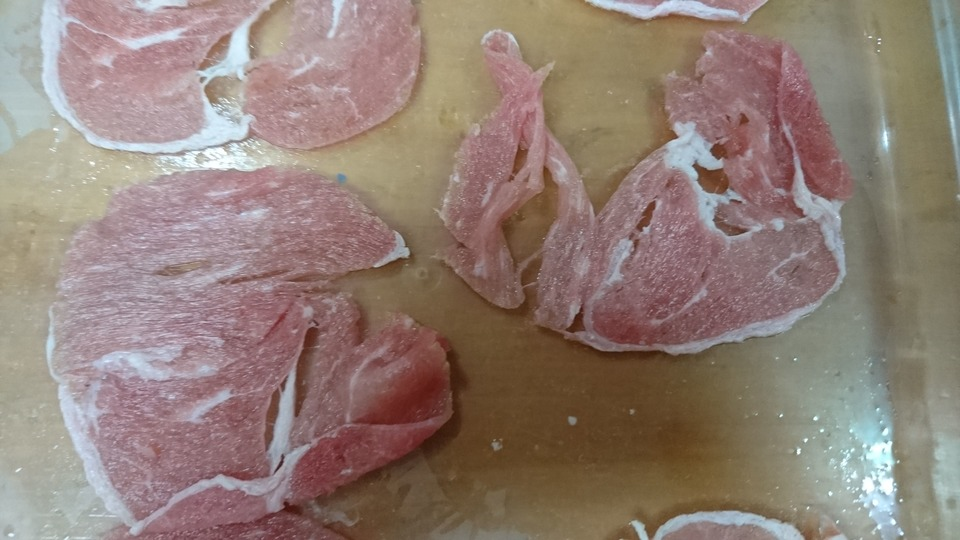restructured meat: (438, 33, 883, 355), (42, 192, 450, 528), (41, 9, 420, 146)
